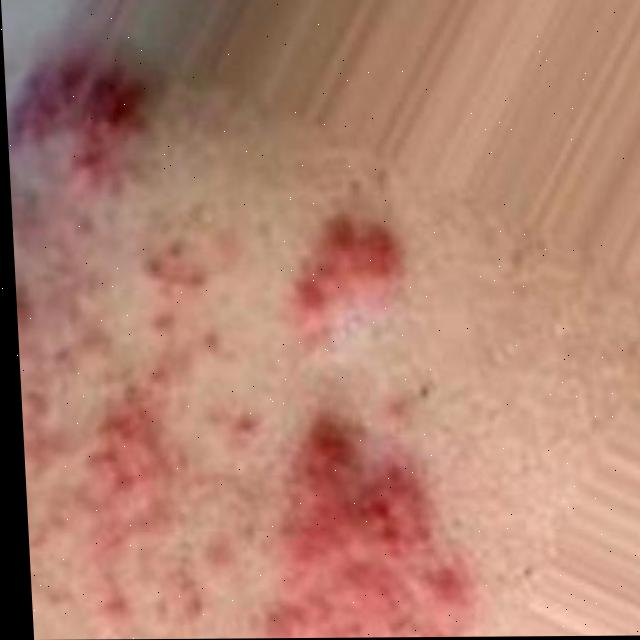Shingles: (3, 58, 470, 640)
